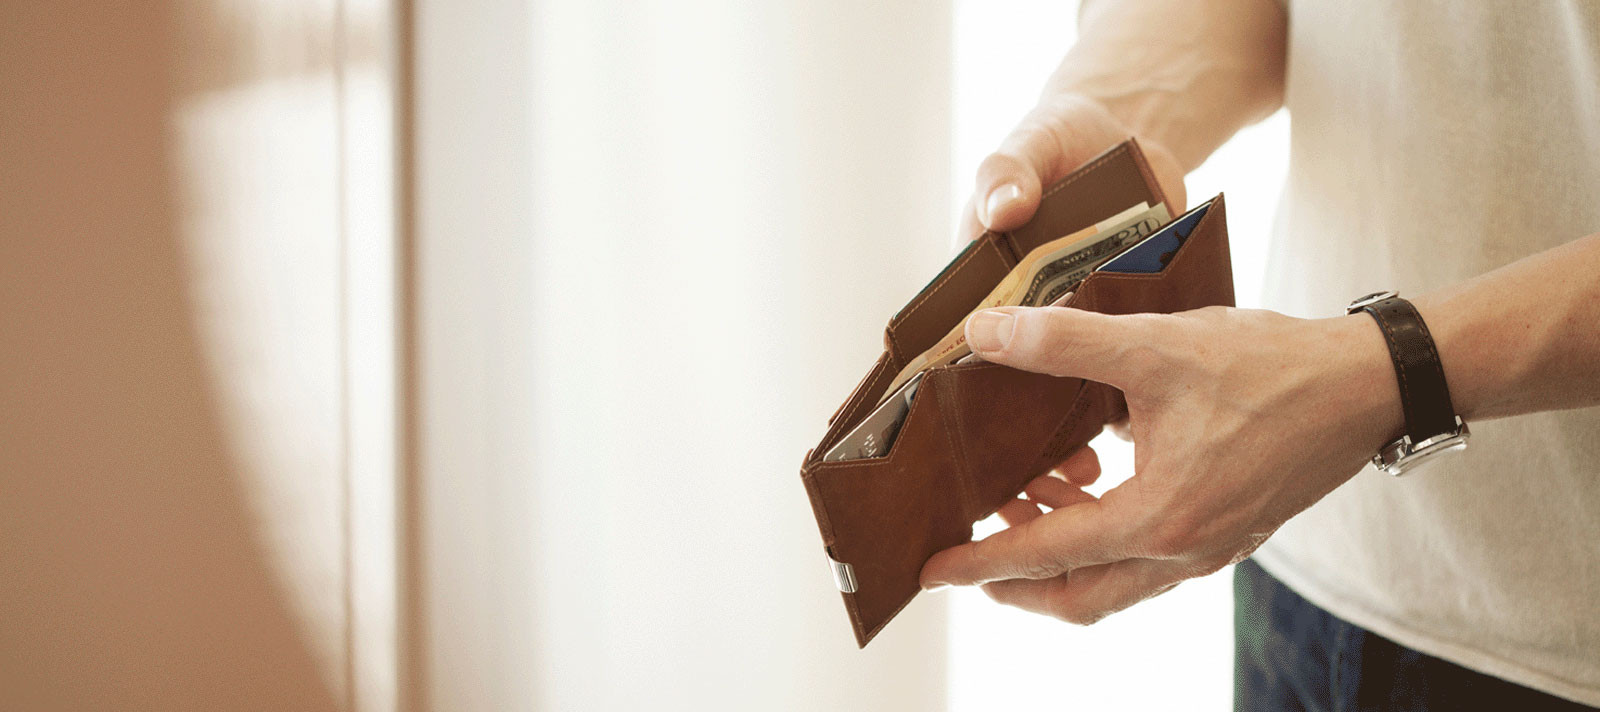monedero: (794, 132, 1244, 656)
